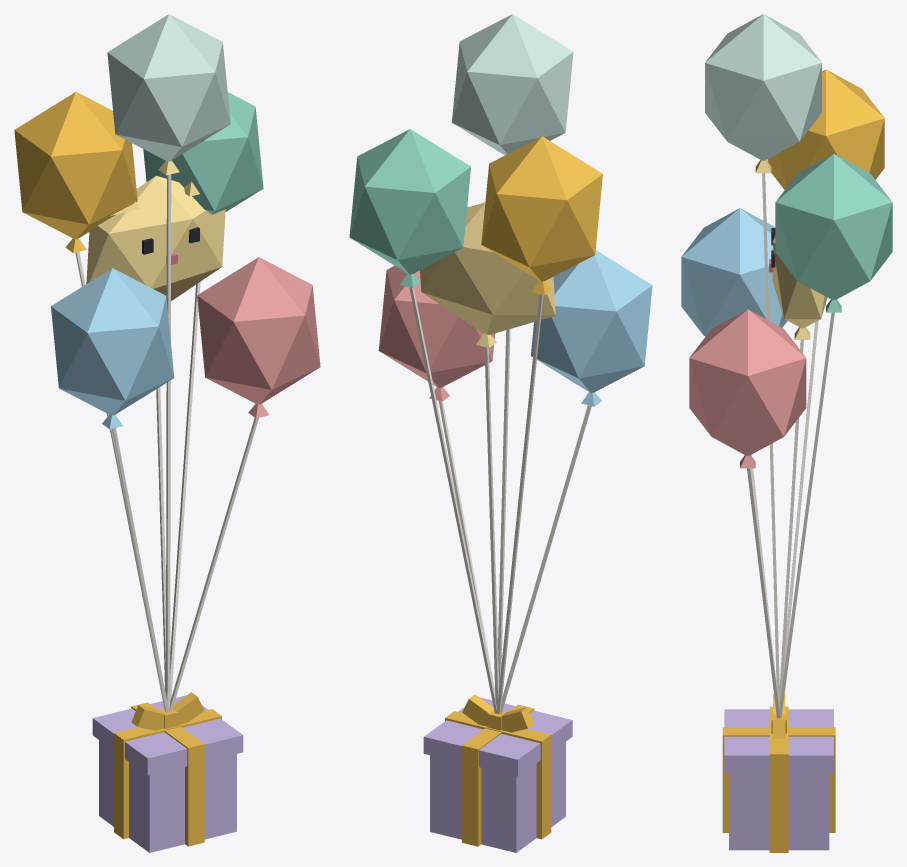
The model's file is CatCafe_Lawn_BalloonBunch.glb.
3 renders of one model, left to right at view 1: azimuth 30°, elevation 25°; view 2: azimuth 150°, elevation 25°; view 3: azimuth 270°, elevation 25°, orthographic.
Parts seen in each view (by area): view 1: CatCafe_Lawn_BalloonBunch_Balloons_Swing, CatCafe_Lawn_BalloonBunch; view 2: CatCafe_Lawn_BalloonBunch_Balloons_Swing, CatCafe_Lawn_BalloonBunch; view 3: CatCafe_Lawn_BalloonBunch_Balloons_Swing, CatCafe_Lawn_BalloonBunch.
Part boxes in pixels (bbox=[...]): CatCafe_Lawn_BalloonBunch_Balloons_Swing: bbox=[14, 14, 320, 712]; CatCafe_Lawn_BalloonBunch: bbox=[92, 692, 243, 852]; CatCafe_Lawn_BalloonBunch_Balloons_Swing: bbox=[349, 14, 652, 713]; CatCafe_Lawn_BalloonBunch: bbox=[423, 694, 572, 852]; CatCafe_Lawn_BalloonBunch_Balloons_Swing: bbox=[681, 14, 892, 718]; CatCafe_Lawn_BalloonBunch: bbox=[722, 694, 835, 852].
Size of the model in its own units: 1.89 by 5.72 by 1.35.
Materials: 1 (1 with a texture image).
